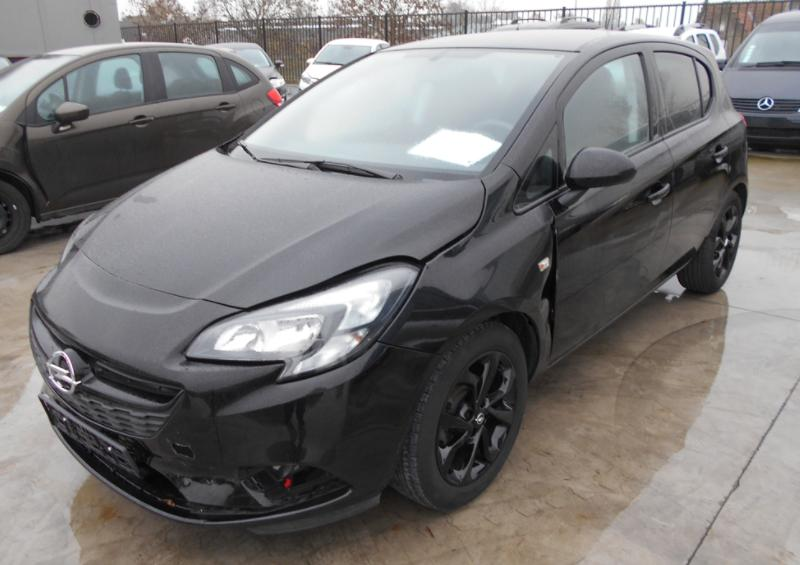Back-door: (644, 42, 731, 281)
Back-wheel: (676, 192, 743, 293)
Back-window: (654, 52, 711, 131)
Fender: (376, 164, 557, 369)
Front-bumper: (40, 343, 440, 535)
Front-door: (549, 43, 674, 365)
Front-wheel: (391, 318, 529, 511)
Front-window: (563, 53, 650, 162), (518, 124, 557, 208)
Grille: (27, 304, 195, 441)
Headlight: (188, 262, 421, 383)
Hood: (37, 147, 482, 389)
License-plate: (42, 399, 153, 487)
Mirror: (563, 144, 642, 189)
Quarter-panel: (706, 110, 749, 237)
Rocker-panel: (535, 259, 690, 375)
Roof: (383, 27, 694, 56)
Tail-light: (738, 108, 749, 151)
Windshield: (225, 47, 574, 181)
